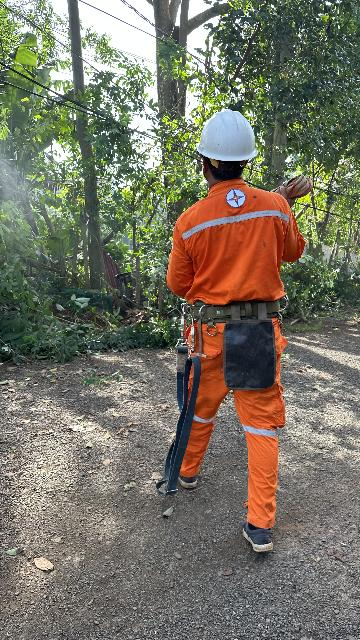harness: (184, 292, 289, 323)
helmet: (188, 108, 262, 168)
shoes: (236, 512, 283, 559), (177, 446, 201, 496)
